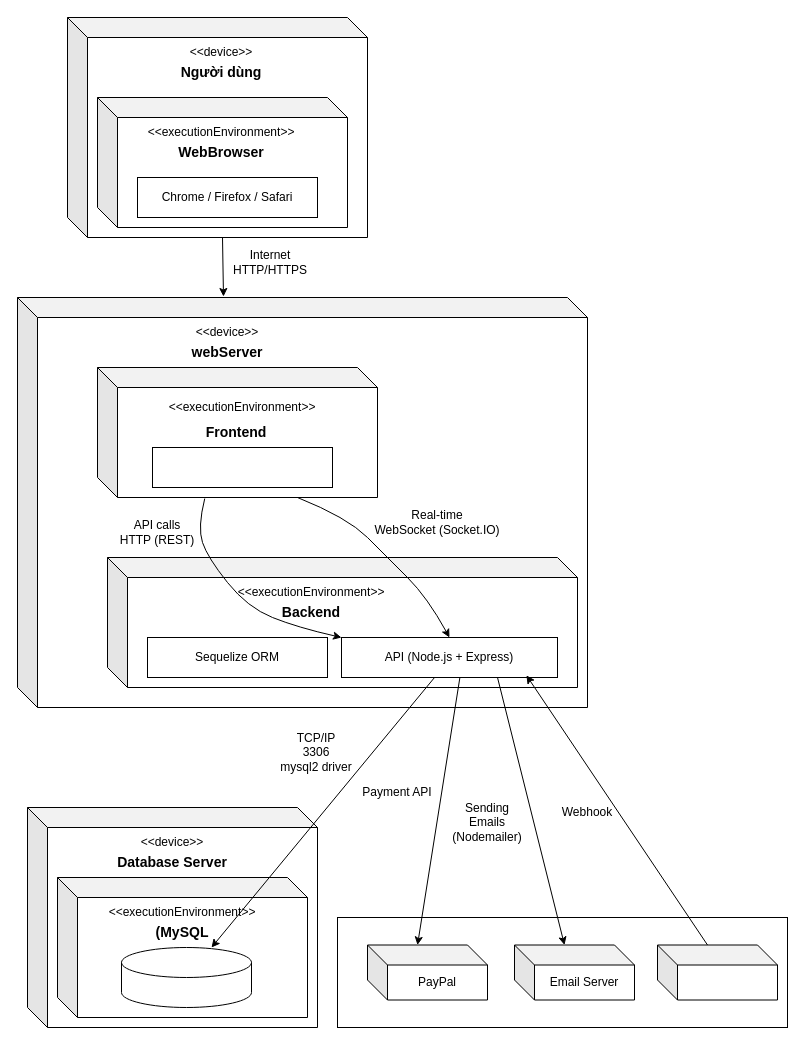
Some shapes in this 805 by 1045 pixel diagram are drawn without their labels. The centre of each missing label's shape, as x and y in pixels:
"Database" belongs at pixel 186 977.
"GHN (Shipping)" belongs at pixel 717 972.
"Reactjs (React build)" belongs at pixel 242 467.
